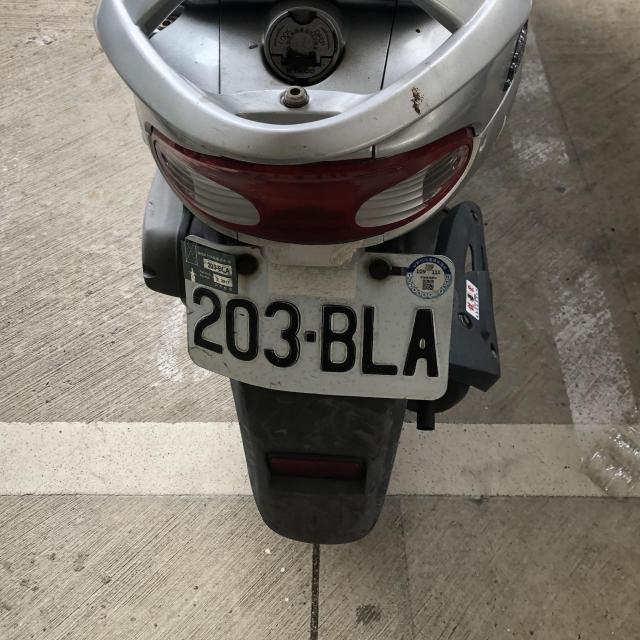W: (174, 231, 463, 400)
